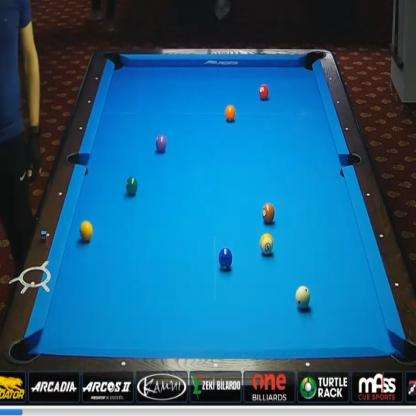Ball: (295, 286, 310, 308), (260, 233, 274, 255), (218, 248, 232, 270), (79, 221, 93, 242), (262, 202, 275, 223), (126, 175, 138, 195), (156, 134, 167, 152), (225, 105, 236, 122), (259, 84, 269, 101)
